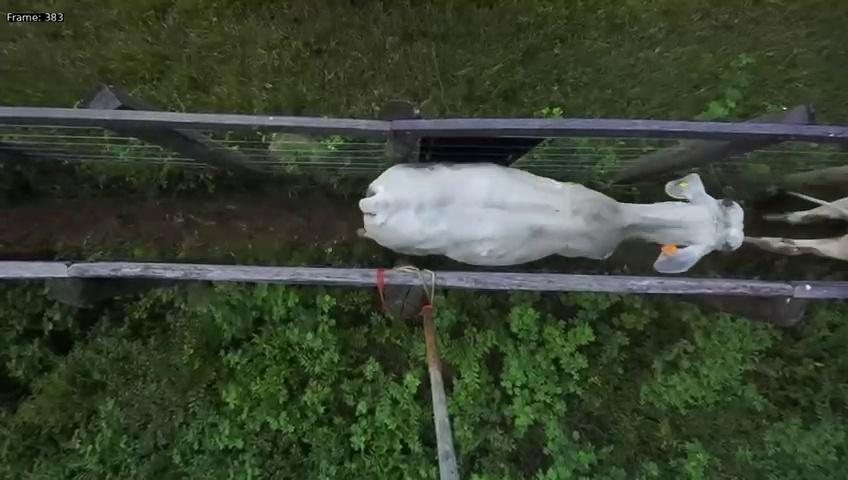cattle: (353, 122, 745, 274)
